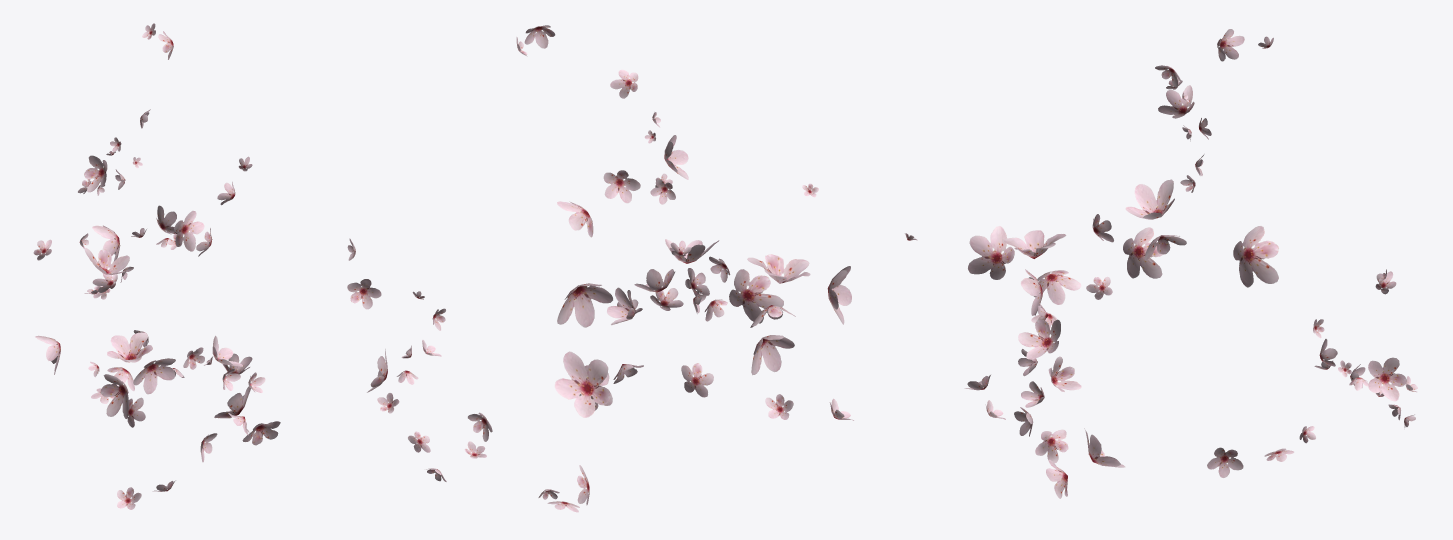
The model's file is flowers.glb.
3 views of the same model, side by side, from view 1: azimuth 30°, elevation 25°; view 2: azimuth 150°, elevation 25°; view 3: azimuth 270°, elevation 25° (orthographic). The views are drawn at different scales.
Visible parts, largest first — view 1: pPlane159, pPlane28, pPlane34, pPlane54, pPlane31, pPlane55, pPlane58, pPlane50, pPlane69, pPlane44, pPlane27, pPlane16 (+2 smaller); view 2: pPlane69, pPlane28, pPlane50, pPlane44, pPlane159, pPlane64, pPlane34, pPlane122, pPlane70, pPlane74, pPlane54; view 3: pPlane50, pPlane34, pPlane44, pPlane31, pPlane23, pPlane27, pPlane47, pPlane159, pPlane156, pPlane55, pPlane16, pPlane70.
Boxes of the visible parts, x1,y1,x2,y2 form: pPlane159: (107,332,152,362); pPlane28: (133,358,175,394); pPlane34: (100,374,128,416); pPlane54: (174,210,204,251); pPlane31: (84,248,129,274); pPlane55: (84,155,107,192); pPlane58: (242,421,280,445); pPlane50: (92,225,120,261); pPlane69: (214,386,250,418); pPlane44: (35,335,60,374); pPlane27: (212,335,242,366); pPlane16: (123,397,145,427); pPlane69: (554,351,610,417); pPlane28: (729,269,783,323); pPlane50: (557,283,612,327); pPlane44: (751,335,794,375); pPlane159: (747,254,810,283); pPlane64: (603,170,640,203); pPlane34: (827,266,851,324); pPlane122: (681,363,713,397); pPlane70: (607,287,635,325); pPlane74: (347,279,381,309); pPlane54: (557,201,593,237); pPlane50: (1233,226,1278,287); pPlane34: (968,225,1014,279); pPlane44: (1123,227,1163,278); pPlane31: (1125,179,1174,219); pPlane23: (1368,357,1406,401); pPlane27: (1018,319,1060,359); pPlane47: (1033,270,1081,304); pPlane159: (1003,230,1066,258); pPlane156: (1035,429,1068,463); pPlane55: (1158,85,1194,118); pPlane16: (1207,447,1243,477); pPlane70: (1048,356,1081,391).
Size of the model in its own units: 8.92 by 11.3 by 11.02.
Materials: 2 (2 with a texture image).
